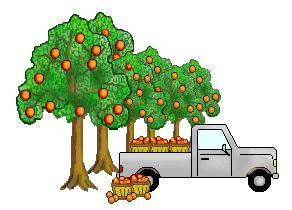car: (114, 121, 281, 191)
